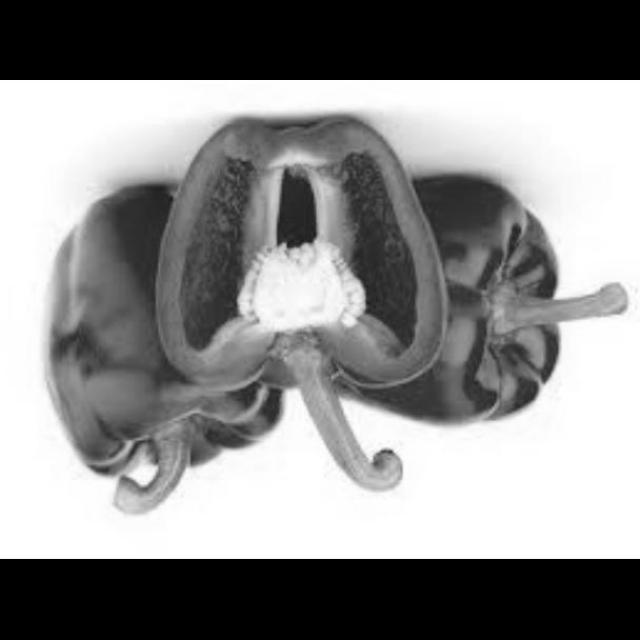ot chuong: (152, 105, 454, 457), (39, 178, 289, 487), (349, 172, 586, 436)
